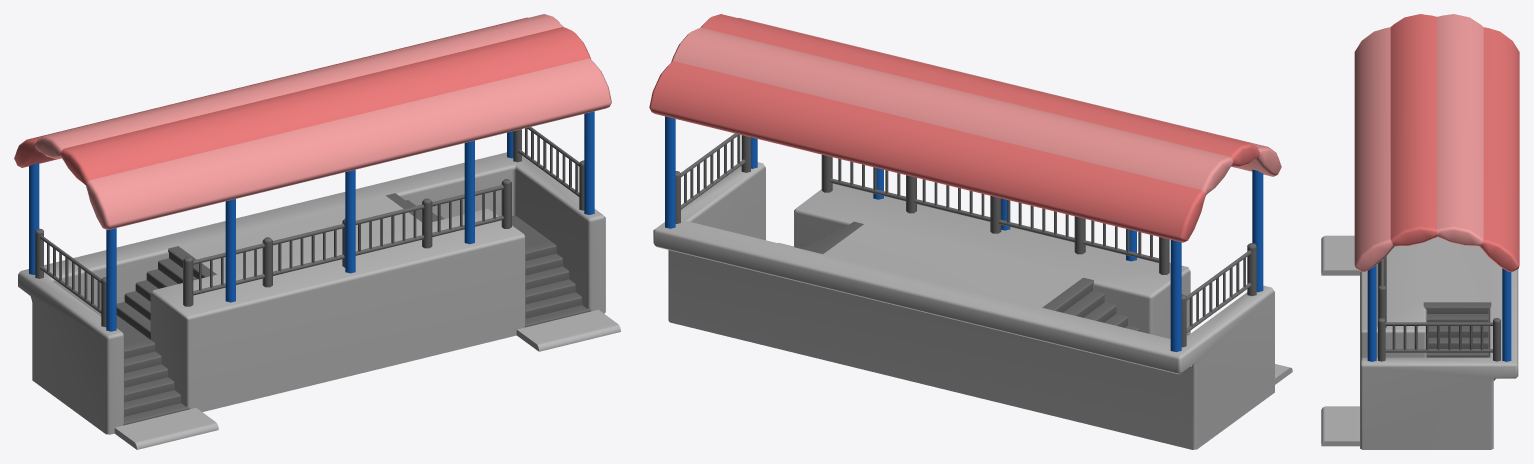
The model's file is attraction_entrance_002.gltf.
3 renders of one model, left to right at view 1: azimuth 30°, elevation 25°; view 2: azimuth 150°, elevation 25°; view 3: azimuth 270°, elevation 25°, orthographic. The views are drawn at different scales.
Visible parts, largest first — view 1: attraction_entrance_002; view 2: attraction_entrance_002; view 3: attraction_entrance_002.
Part boxes in pixels (x1,y1,x2,y2): attraction_entrance_002: (14,14,620,449); attraction_entrance_002: (649,14,1292,449); attraction_entrance_002: (1321,14,1519,449).
Bounding box in the file's own units: 12.73 × 6.17 × 4.96.
1 material, 1 textured.
